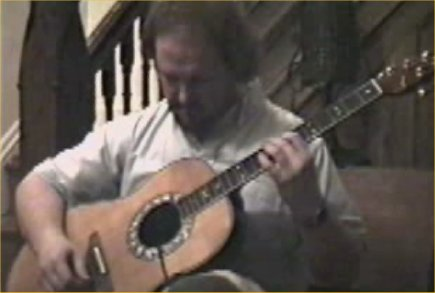guitar: (3, 48, 435, 293)
